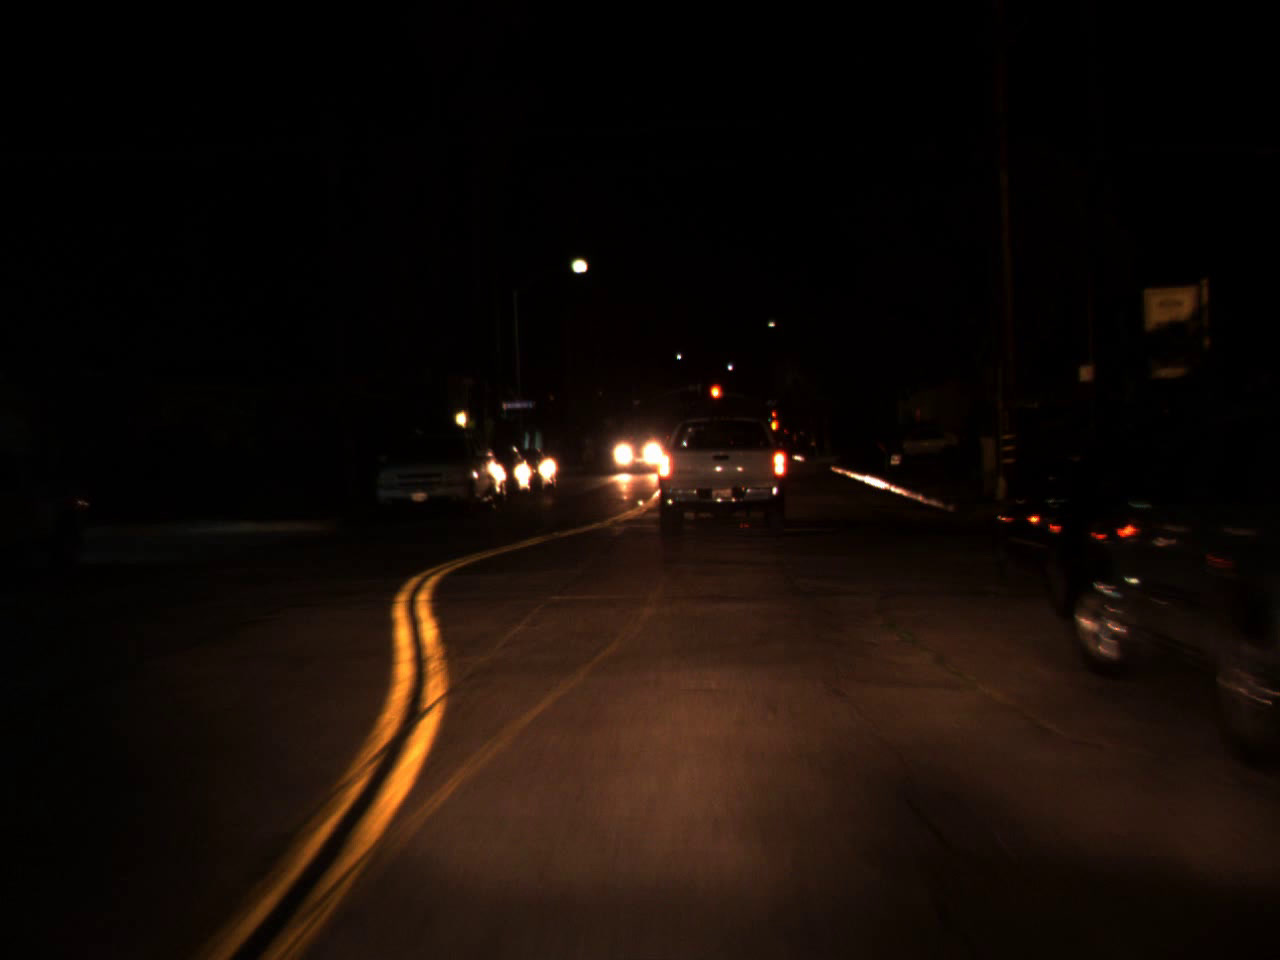stop: (708, 383, 723, 415), (769, 409, 778, 427)
